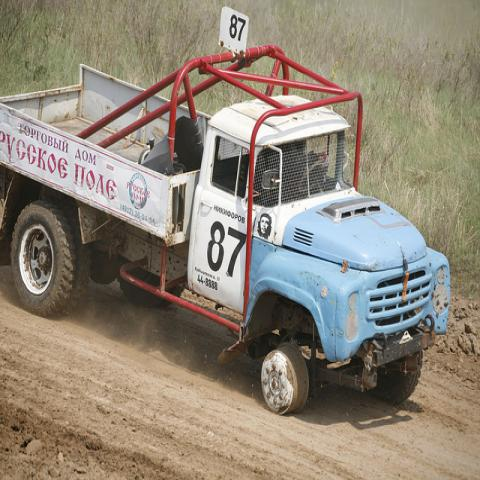truck: (0, 42, 454, 417)
